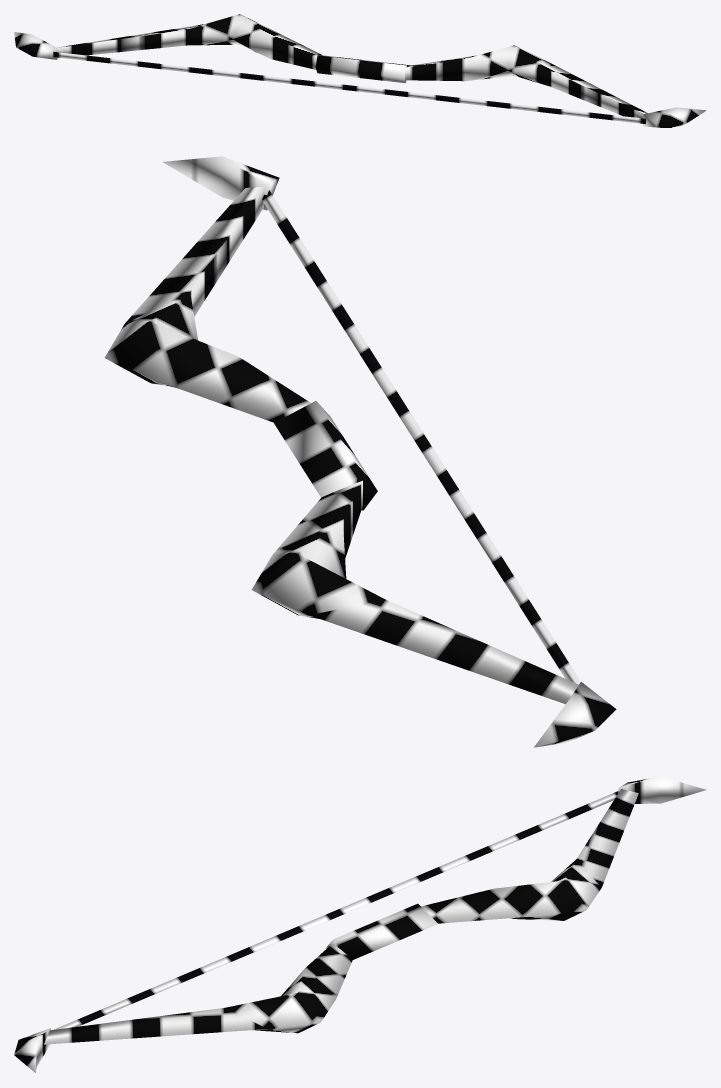
File: initwebw5.dae
3 renders of one model, top to bottom at view 1: azimuth 30°, elevation 25°; view 2: azimuth 150°, elevation 25°; view 3: azimuth 270°, elevation 25°, orthographic. The views are drawn at different scales.
Parts seen in each view (by area): view 1: weapon; view 2: weapon; view 3: weapon.
Boxes of the visible parts, <box> form: weapon: <box>14,14,706,127</box>; weapon: <box>104,156,616,747</box>; weapon: <box>14,776,706,1072</box>.
Size of the model in its own units: 2.65 by 2.65 by 0.1713.
Materials: 1 (1 with a texture image).
